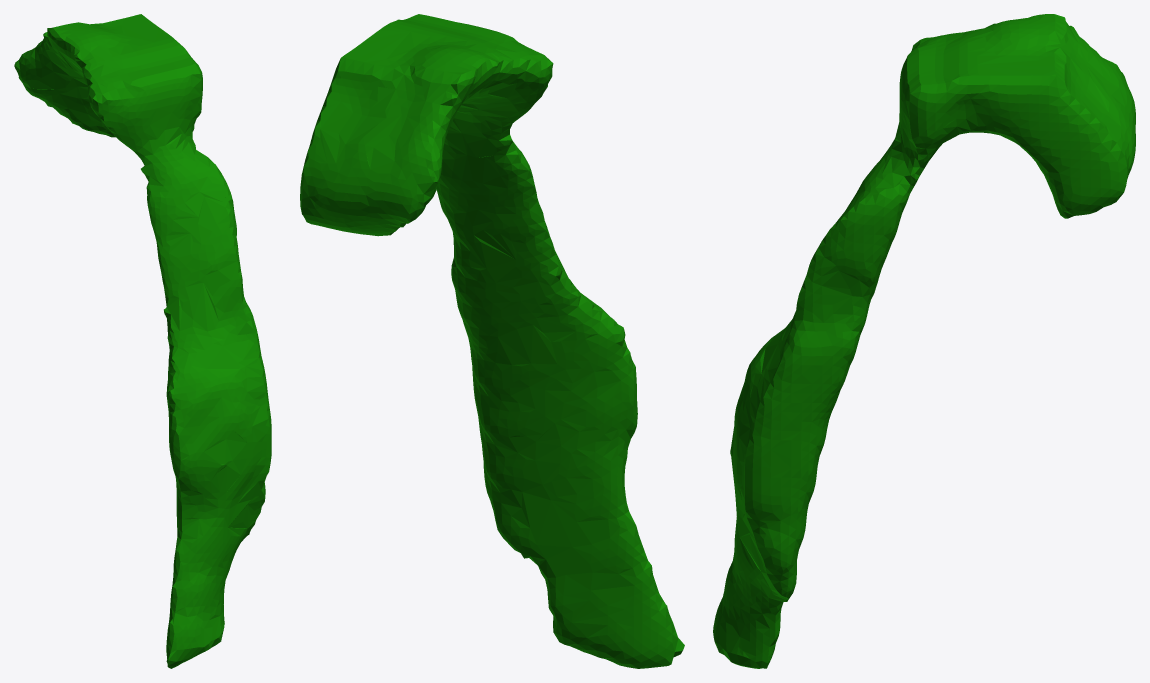
File: Model_10057_LH__Area_24a_of_cortex_(A24a).obj
3 renders of one model, left to right at view 1: azimuth 30°, elevation 25°; view 2: azimuth 150°, elevation 25°; view 3: azimuth 270°, elevation 25°, orthographic. The views are drawn at different scales.
Bounding box in the file's own units: 1.64 × 6.9 × 4.1.
